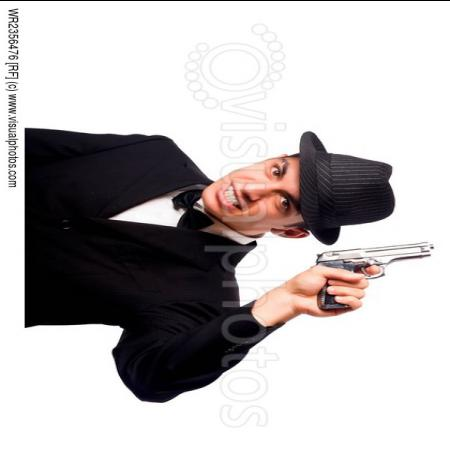Pistol: (313, 240, 437, 309)
